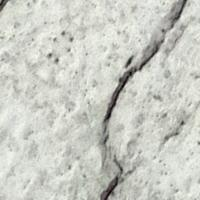crack: (101, 2, 187, 199)
